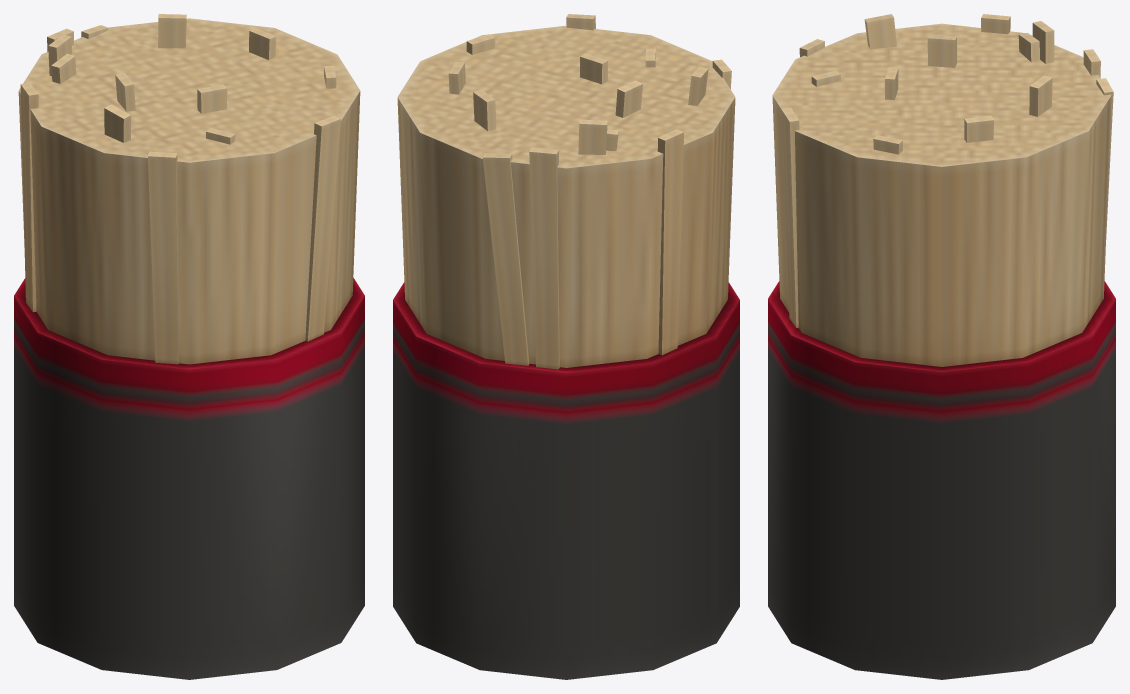
Rendered from jsf_ChopstickStand_01.fbx.
3 renders of one model, left to right at view 1: azimuth 30°, elevation 25°; view 2: azimuth 150°, elevation 25°; view 3: azimuth 270°, elevation 25°, orthographic.
Parts seen in each view (by area): view 1: jsf_ChopstickStand_01; view 2: jsf_ChopstickStand_01; view 3: jsf_ChopstickStand_01.
Part boxes in pixels (<box>): jsf_ChopstickStand_01: <box>14,14,364,679</box>; jsf_ChopstickStand_01: <box>393,14,739,679</box>; jsf_ChopstickStand_01: <box>768,14,1115,679</box>.
Bounding box in the file's own units: 12.38 × 21.3 × 12.38.
